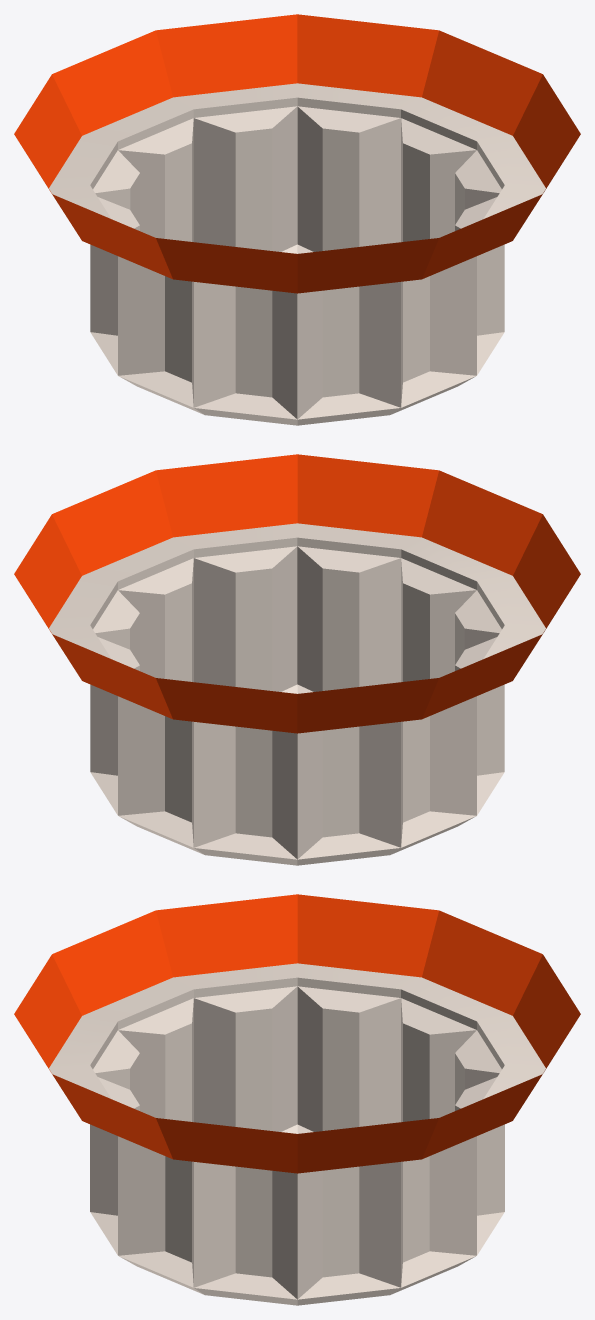
Rendered from StoveKnob_4f71c05a.obj.
3 views of the same model, one above another, from view 1: azimuth 30°, elevation 25°; view 2: azimuth 150°, elevation 25°; view 3: azimuth 270°, elevation 25° (orthographic).
Visible parts, largest first — view 1: Knob_d1b1e066; view 2: Knob_d1b1e066; view 3: Knob_d1b1e066.
Boxes of the visible parts, box(x1,y1,x2,y2) form: Knob_d1b1e066: box(14, 14, 580, 425); Knob_d1b1e066: box(14, 454, 580, 865); Knob_d1b1e066: box(14, 894, 580, 1305).
Size of the model in its own units: 0.0801 by 0.0332 by 0.0801.
